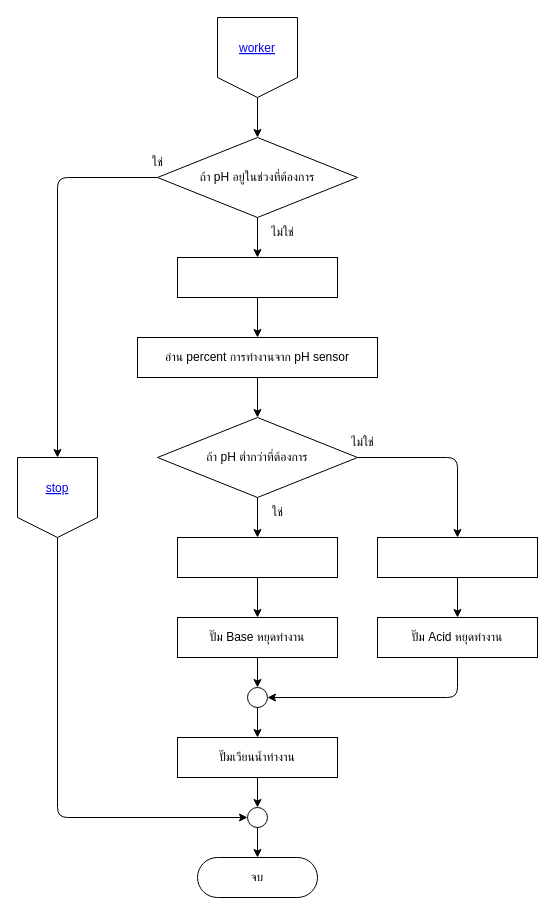
The diagram is 555 pixels wide and 915 high, and some of its shapes have lost their labels. Here are the shapes that lost their labels. From the top down, the centre of each, then its label:
the point at 257,277: เปิด LED แสดงสถานะทำงาน
the point at 257,557: ปั๊ม Acid ทำงาน
the point at 457,557: ปั๊ม Base ทำงาน
